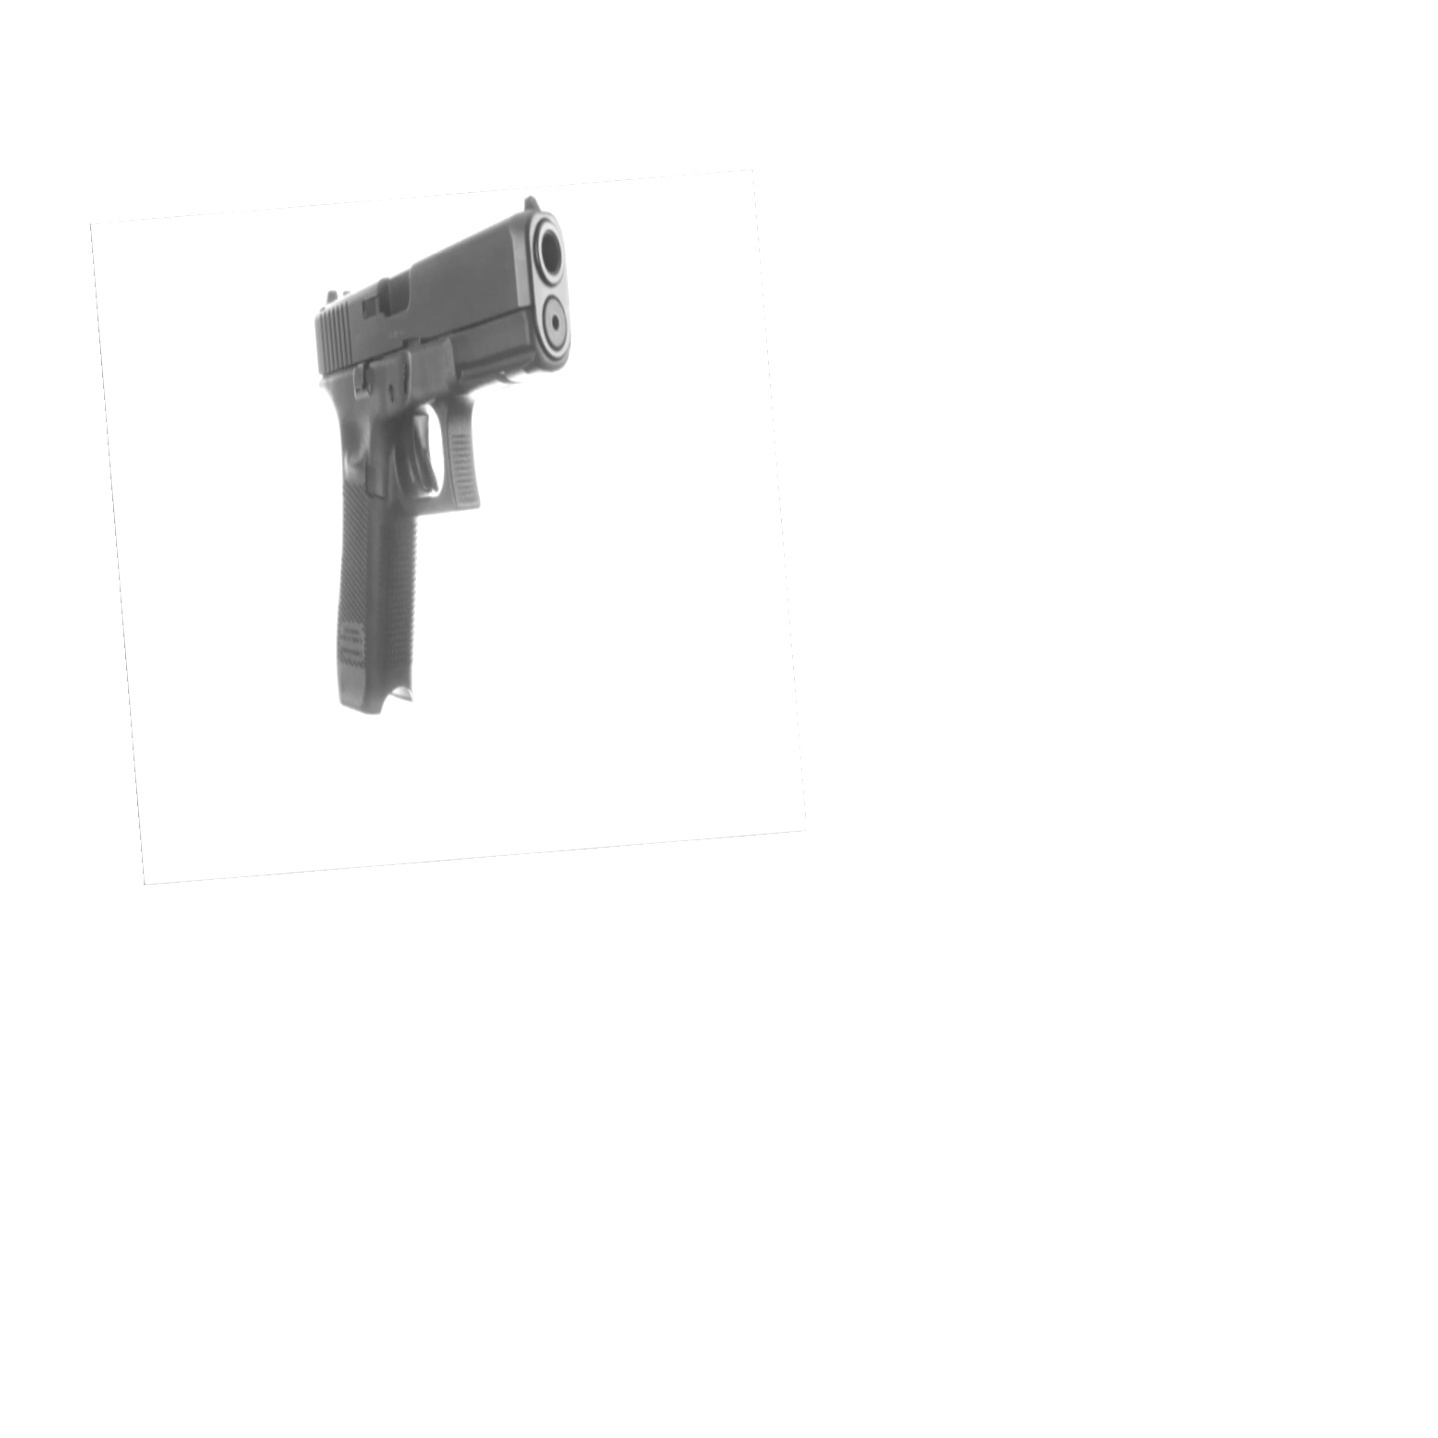gun: (313, 196, 574, 716)
